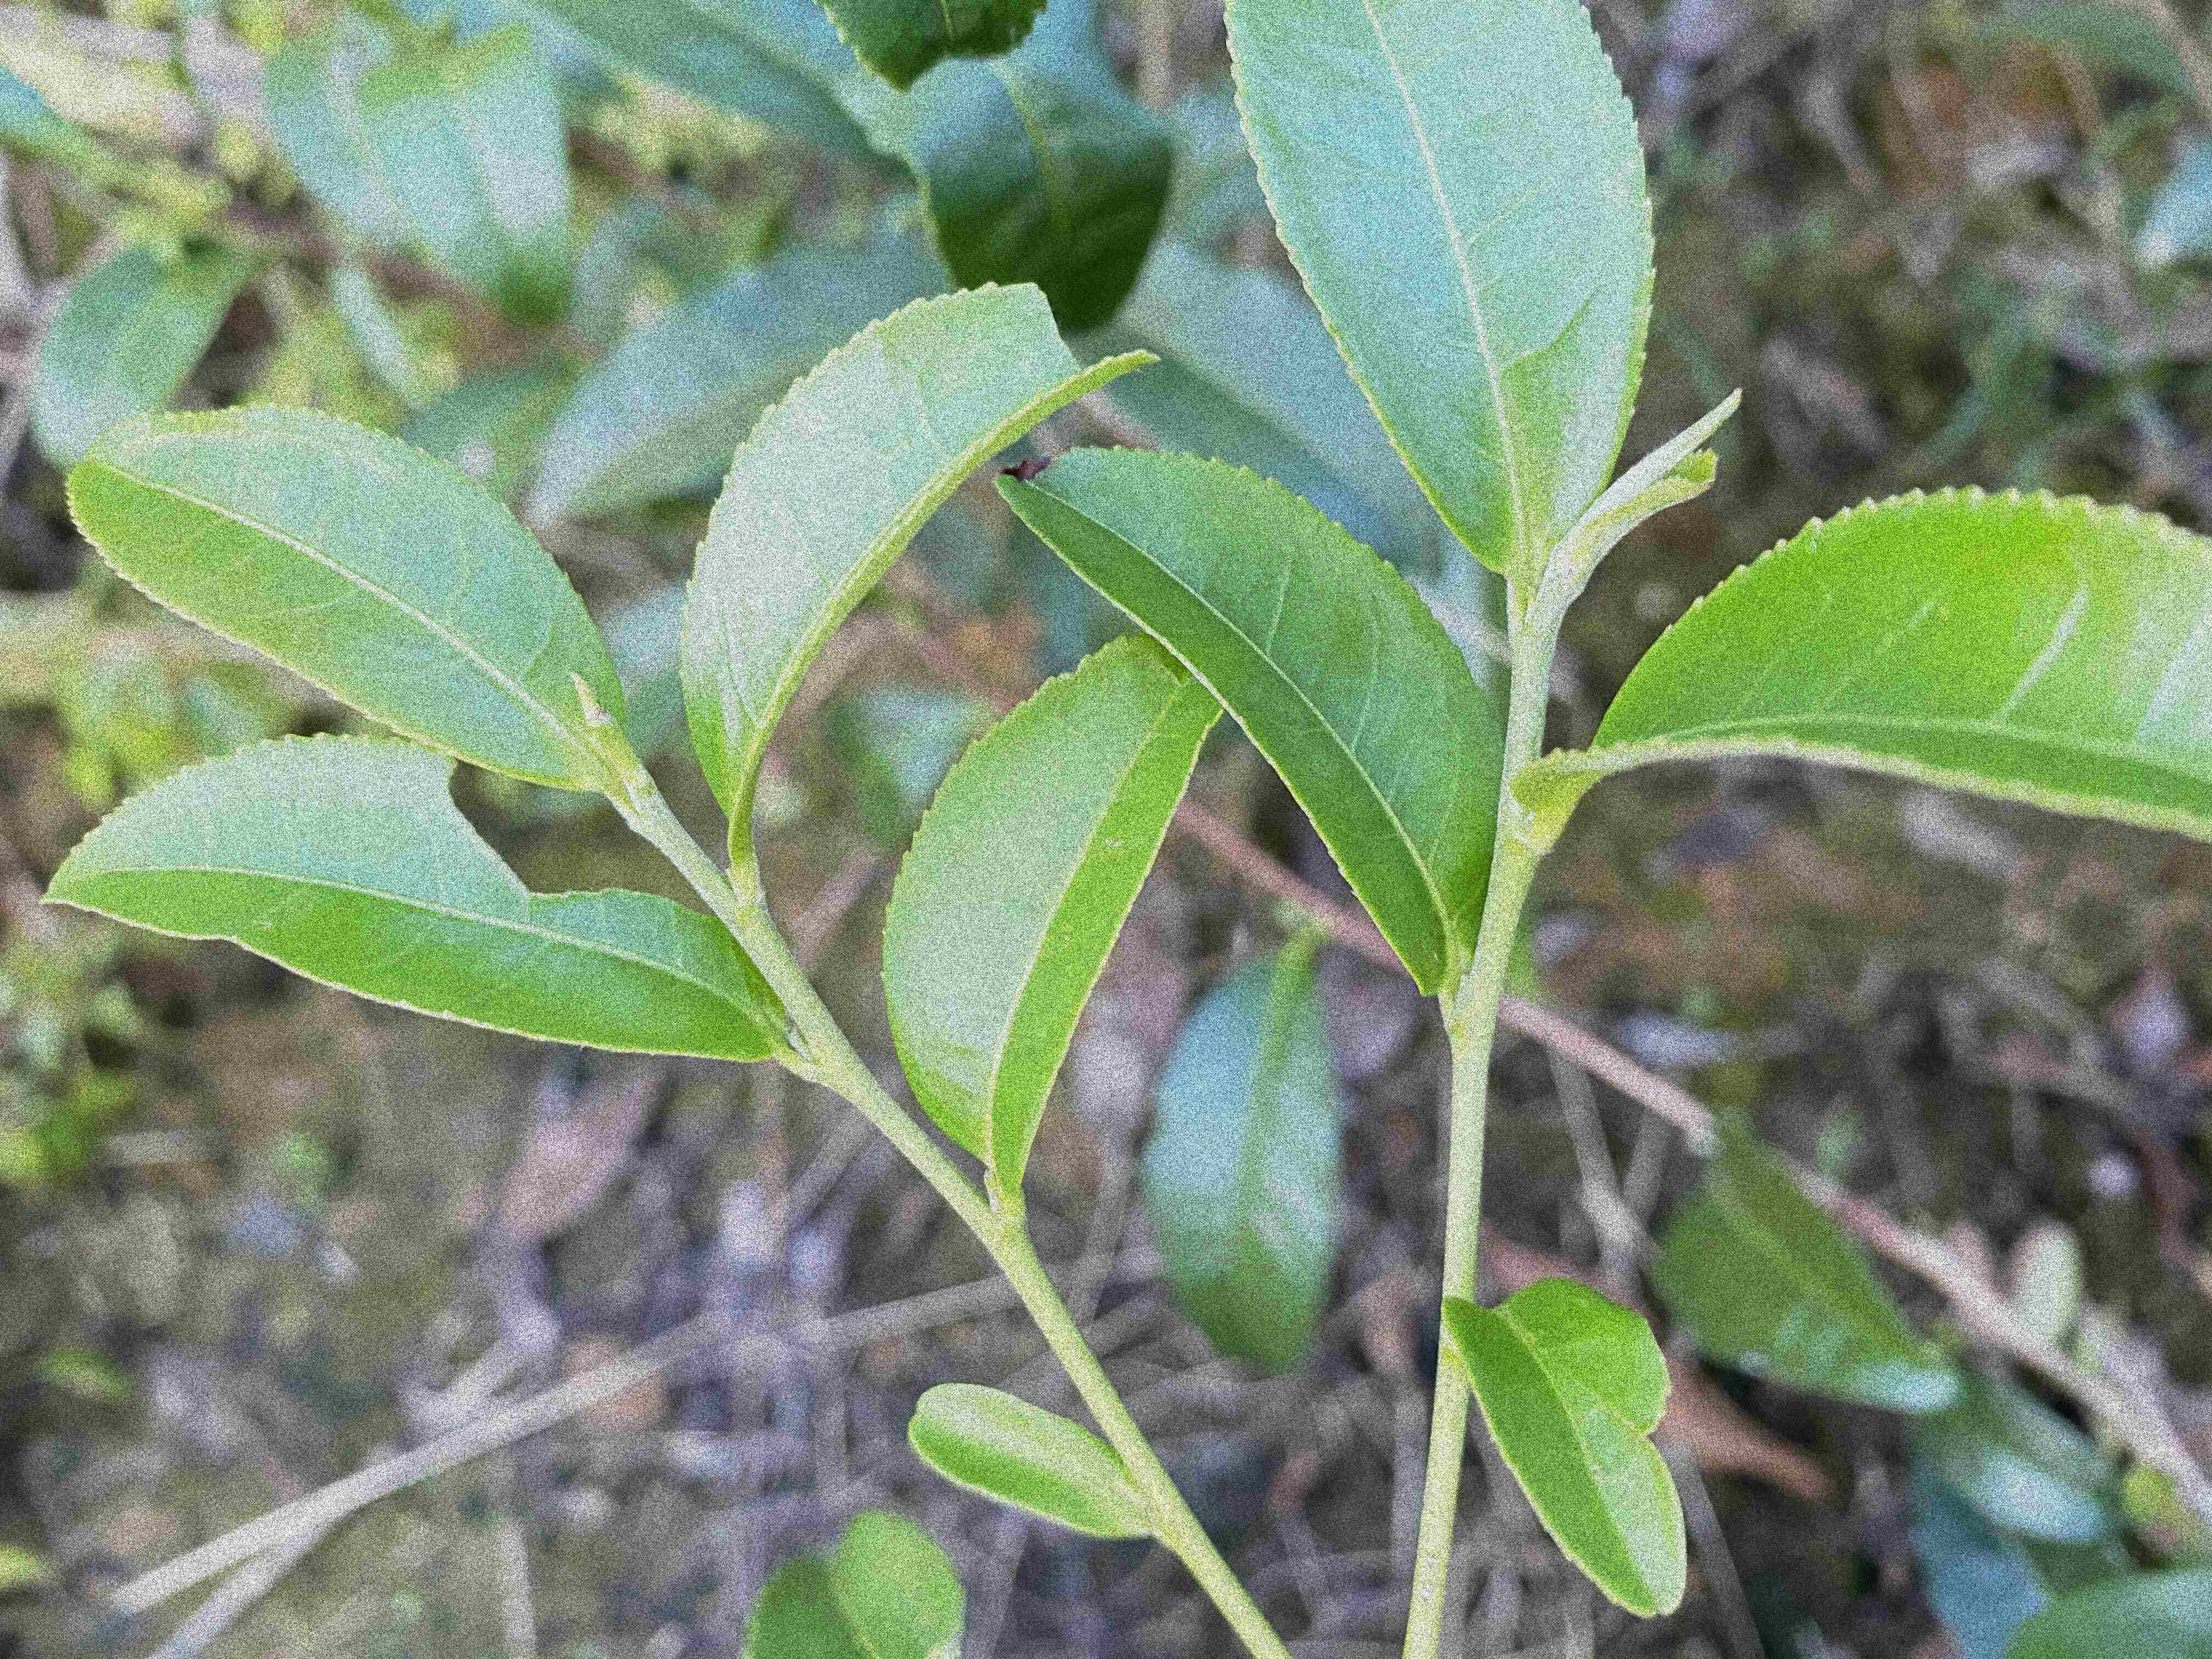chihuo_low: (679, 279, 1160, 849), (38, 732, 794, 1061)
healthy: (1510, 483, 2209, 845), (1223, 2, 1662, 573), (64, 399, 625, 793), (878, 633, 1224, 1194), (909, 1380, 1157, 1539)
tanju_low: (989, 443, 1503, 1002)
